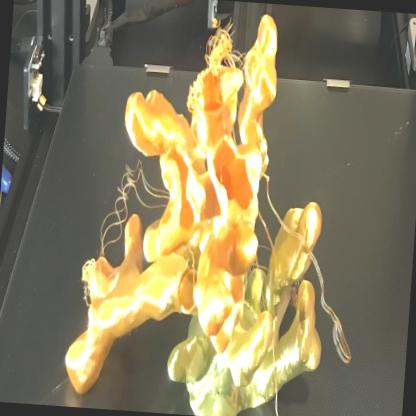fail: (97, 156, 169, 219), (89, 216, 126, 257)
